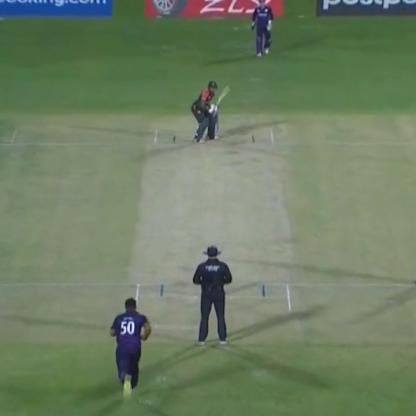bat: (208, 85, 236, 112)
pitch: (134, 120, 293, 324)
